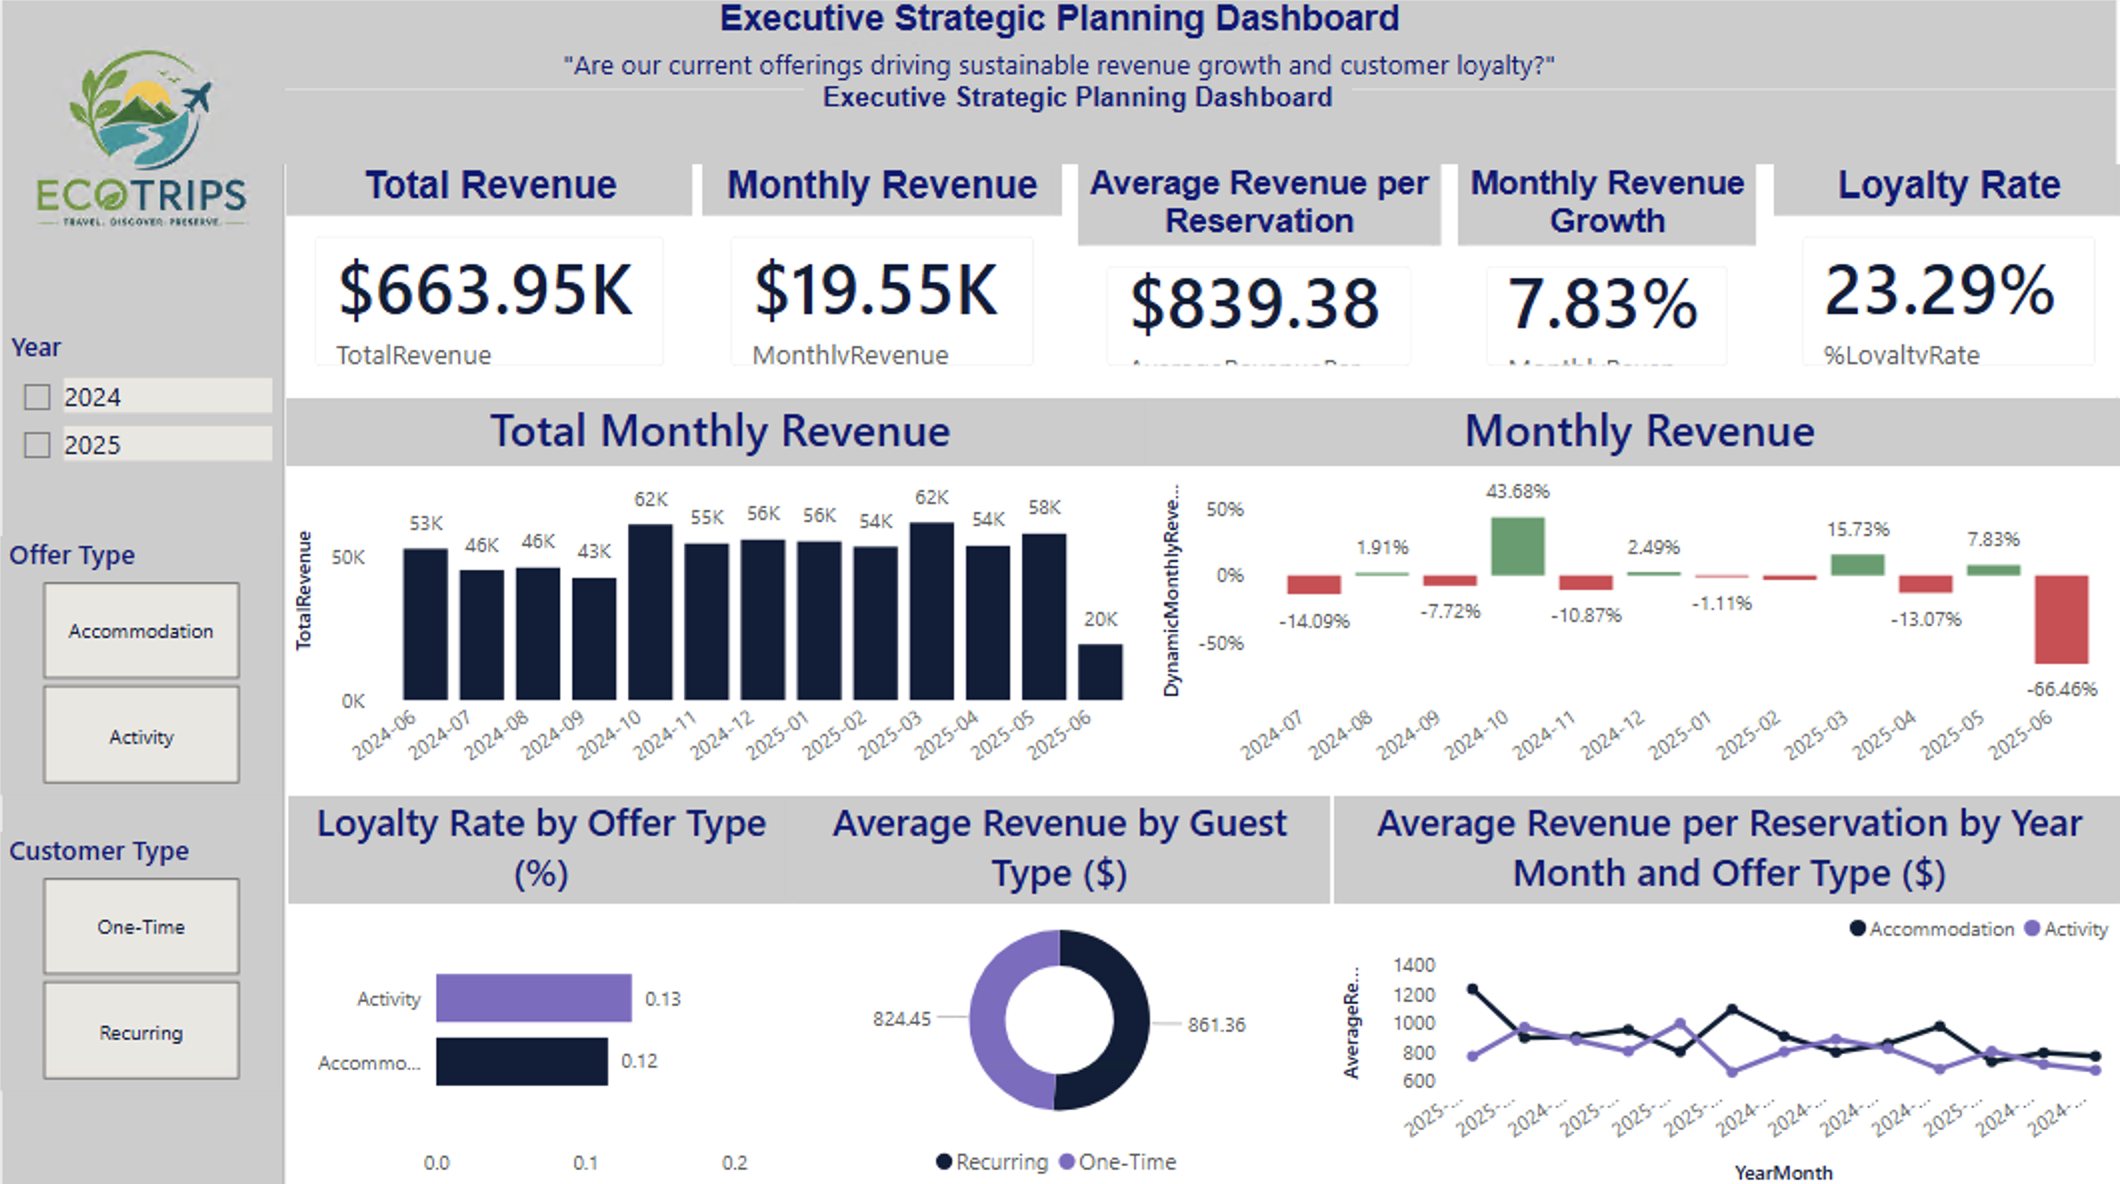

The page's visual inventory and layout, read from the dashboard file:
{"tool":"powerbi","page":{"name":"Strategic Planning","canvas":[1280,720],"ordinal":0},"visuals":[{"type":"shape","box":[0,1.4,172,718.4],"z":0,"group":"g1"},{"type":"cardVisual","title":"Total Revenue","fields":{"Data":["(ecotrips_measures).TotalRevenue"]},"box":[172,100.1,245.3,139.6],"z":0},{"type":"group","id":"g1","title":"Group 3","box":[0,0,1276.2,719.8],"z":1000},{"type":"cardVisual","title":"Monthly Revenue","fields":{"Data":["(ecotrips_measures).MonthlyRevenue"]},"box":[422.9,100.1,217.1,139.6],"z":2000},{"type":"group","id":"g2","title":"Group 2","box":[0,324.2,167.8,156.5],"z":3000},{"type":"lineStackedColumnComboChart","title":"Total Monthly Revenue","fields":{"Category":["ecotrips_calendar.YearMonth"],"Y":["(ecotrips_measures).TotalRevenue"]},"box":[172.8,240.9,523,241.1],"z":4000},{"type":"cardVisual","title":"Average Revenue per Reservation","fields":{"Data":["(ecotrips_measures).AverageReservation"]},"box":[649.9,100.1,218.5,139.6],"z":5000},{"type":"slicer","title":"Year","fields":{"Values":["ecotrips_calendar.Year"]},"box":[1.4,198.8,167.8,114.2],"z":6000},{"type":"image","box":[0,0,172.5,183.2],"z":7000},{"type":"cardVisual","title":"Monthly Revenue Growth","fields":{"Data":["(ecotrips_measures).MonthlyRevenueGrowthRate"]},"box":[878.2,100.1,180.4,139.6],"z":8000},{"type":"slicer","title":"Offer Type","fields":{"Values":["ecotrips_offer.OfferType_EN"]},"box":[0,324.2,167.7,155.8],"z":8500,"group":"g2"},{"type":"cardVisual","title":"Loyalty Rate","fields":{"Data":["(ecotrips_measures).LoyaltyRate"]},"box":[1068.5,100.1,211.5,139.6],"z":9000},{"type":"shape","title":"Executive Strategic Planning Dashboard","box":[0,0,1276.2,100.4],"z":10000,"group":"g3"},{"type":"slicer","title":"Customer Type","fields":{"Values":["ecotrips_reservation.(guest_type"]},"box":[0,502,167.7,155.8],"z":10000},{"type":"textbox","title":"Executive Strategic Planning Dashboard","box":[484.9,50.7,329.9,26.8],"z":11000,"group":"g3"},{"type":"lineStackedColumnComboChart","title":"Monthly Revenue","fields":{"Category":["ecotrips_calendar.YearMonth"],"Y":["(ecotrips_measures).DynamicMonthlyRevenueGrowth"]},"box":[695,241.1,585,241.1],"z":11000},{"type":"group","id":"g3","title":"Group 1","box":[0,0,1276.2,100.4],"z":11001,"group":"g1"},{"type":"barChart","title":"Loyalty Rate by Offer Type (%)","fields":{"Category":["ecotrips_offer.OfferType_EN"],"Y":["(ecotrips_measures).LoyaltyRate"]},"box":[173.4,480.7,304.5,239.6],"z":12000},{"type":"donutChart","title":"Average Revenue by Guest Type ($)","fields":{"Y":["(ecotrips_measures).AverageReservation"],"Category":["ecotrips_reservation.(guest_type"]},"box":[475.1,480.7,327,239.6],"z":13000},{"type":"lineChart","title":"Average Revenue per Reservation by Year Month and Offer Type ($)","fields":{"Category":["ecotrips_calendar.YearMonth"],"Y":["(ecotrips_measures).AverageReservation"],"Series":["ecotrips_offer.OfferType_EN"]},"box":[803.5,480.7,476.5,239.6],"z":14000}]}

Visuals, with their boxes in screenshot pixels (x1, y1, x2, y2), scaled from the page's 1280x720 canvas onto the 2120x1184 screenshot:
shape: [0, 2, 285, 1183]
"Total Revenue" cardVisual: [285, 165, 691, 394]
"Group 3" group: [0, 0, 2114, 1183]
"Monthly Revenue" cardVisual: [700, 165, 1060, 394]
"Group 2" group: [0, 533, 278, 790]
"Total Monthly Revenue" lineStackedColumnComboChart: [286, 396, 1152, 793]
"Average Revenue per Reservation" cardVisual: [1076, 165, 1438, 394]
"Year" slicer: [2, 327, 280, 515]
image: [0, 0, 286, 301]
"Monthly Revenue Growth" cardVisual: [1455, 165, 1753, 394]
"Offer Type" slicer: [0, 533, 278, 789]
"Loyalty Rate" cardVisual: [1770, 165, 2119, 394]
"Executive Strategic Planning Dashboard" shape: [0, 0, 2114, 165]
"Customer Type" slicer: [0, 826, 278, 1082]
"Executive Strategic Planning Dashboard" textbox: [803, 83, 1350, 127]
"Monthly Revenue" lineStackedColumnComboChart: [1151, 396, 2119, 793]
"Group 1" group: [0, 0, 2114, 165]
"Loyalty Rate by Offer Type (%)" barChart: [287, 790, 792, 1183]
"Average Revenue by Guest Type ($)" donutChart: [787, 790, 1328, 1183]
"Average Revenue per Reservation by Year Month and Offer Type ($)" lineChart: [1331, 790, 2119, 1183]
